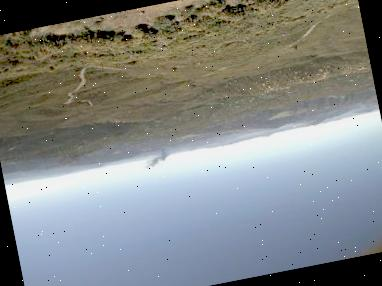smoke: (137, 144, 174, 174)
